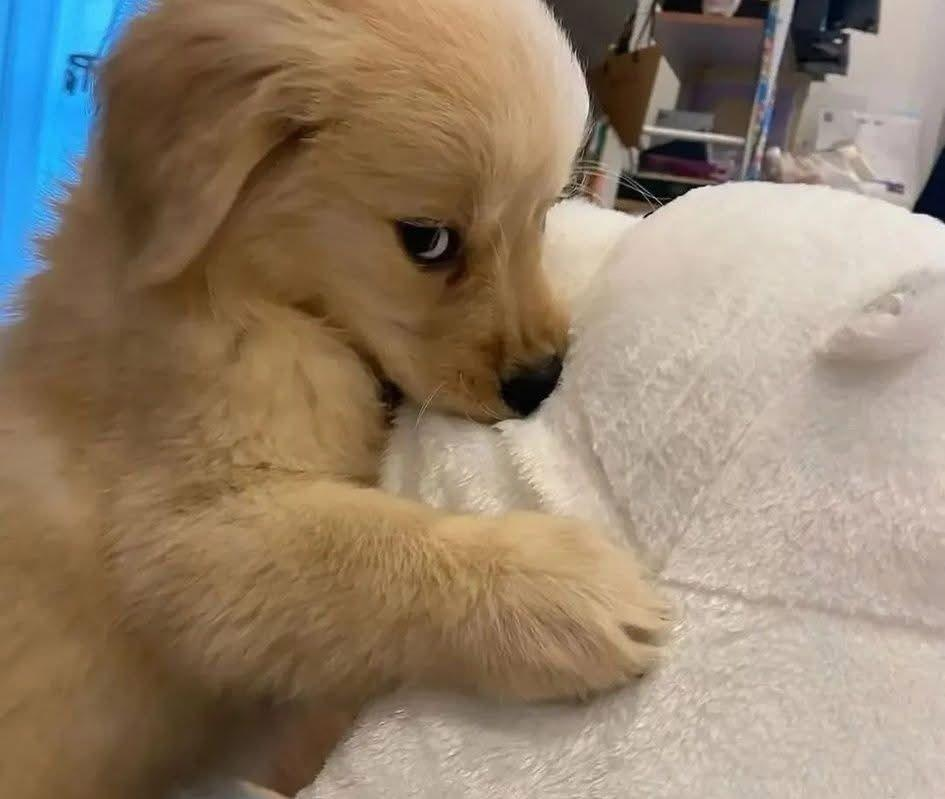puppy-dog: (0, 2, 679, 799)
